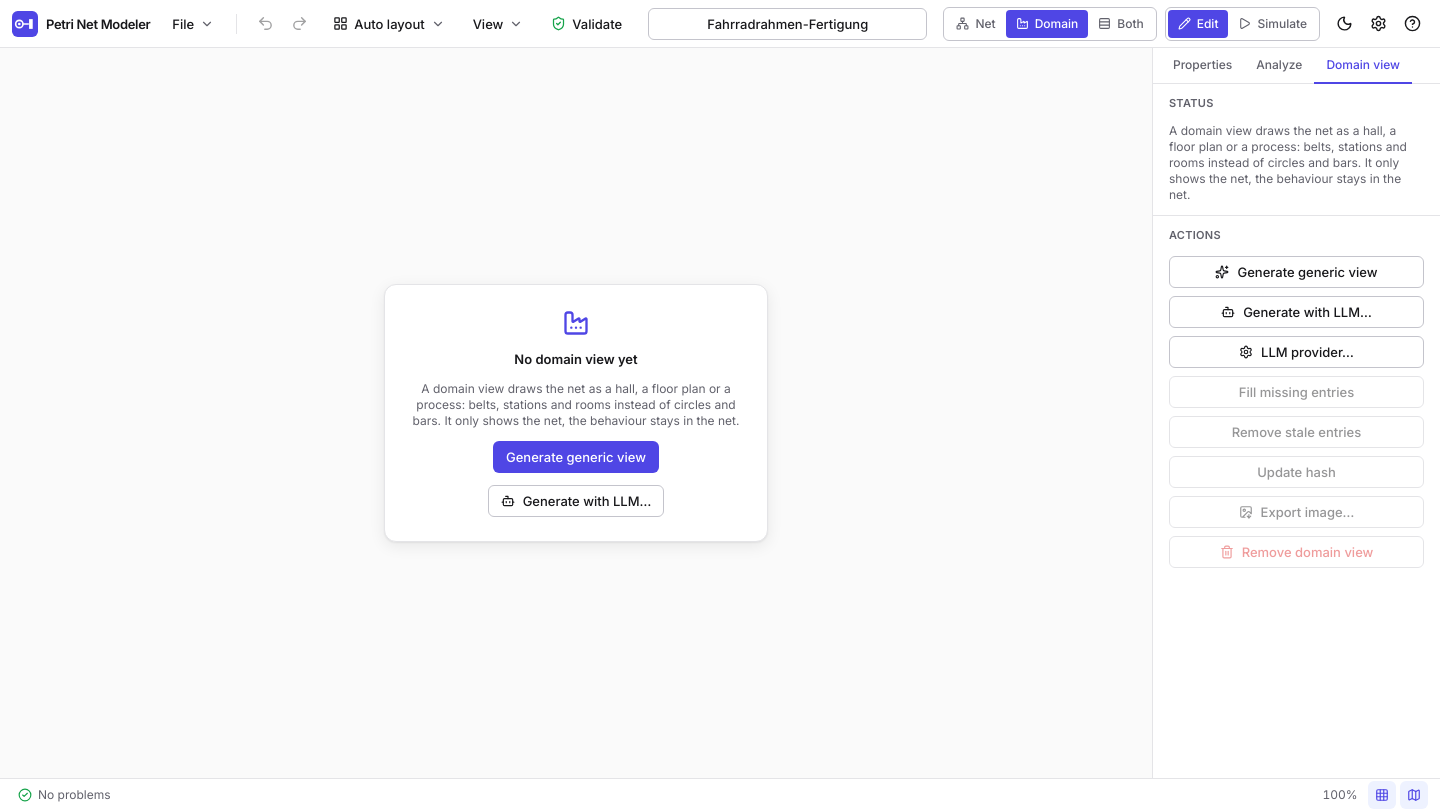
Test case: the guided form (N4) › is the first tab, prefilled from the net: stages in flow order, limits from the net
Click the button with test id "domain-generate-llm". click: (1296, 312)
box: left=1169, top=296, right=1424, bottom=328
(page scrolled)
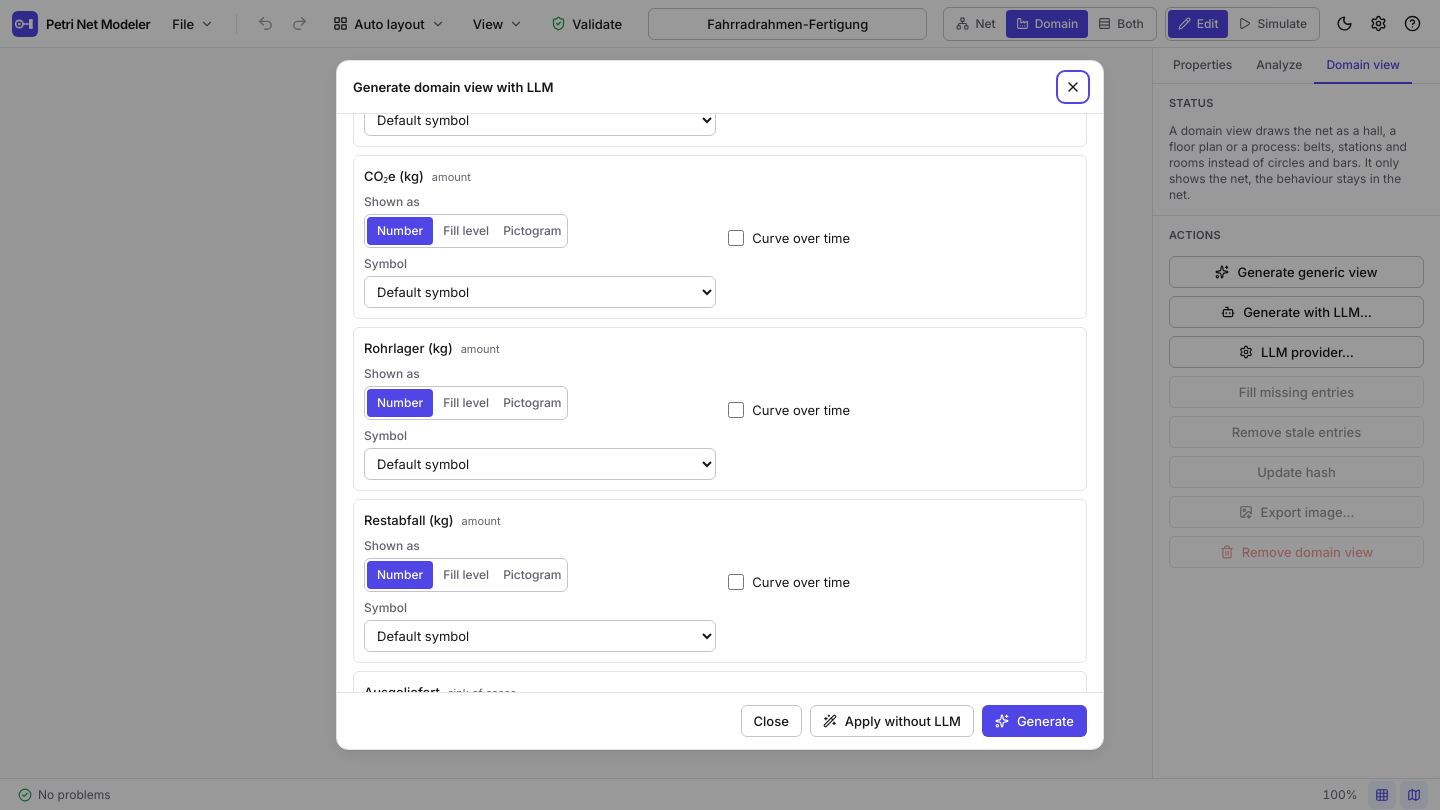
Expected: the element with test id "guided-counter-p_tubes" is shown, left=353, top=327, right=1087, bottom=491
Expected: the element with test id "guided-counter-p_co2" is shown, left=353, top=155, right=1087, bottom=319
